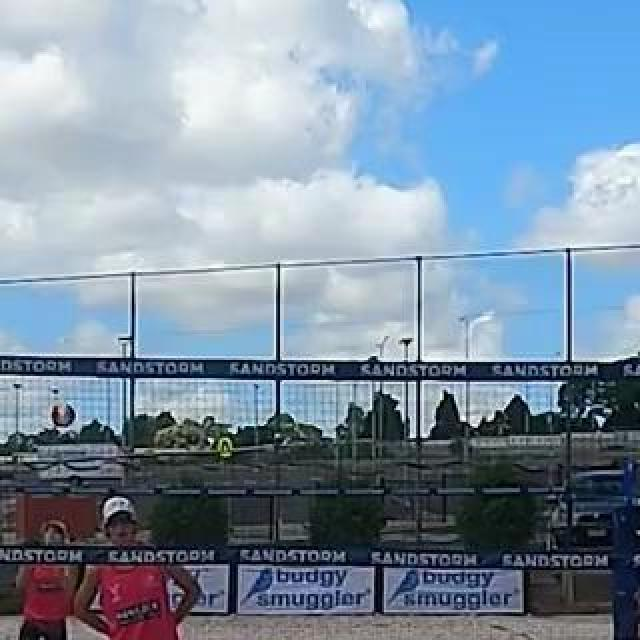volleyball: (51, 404, 77, 430)
